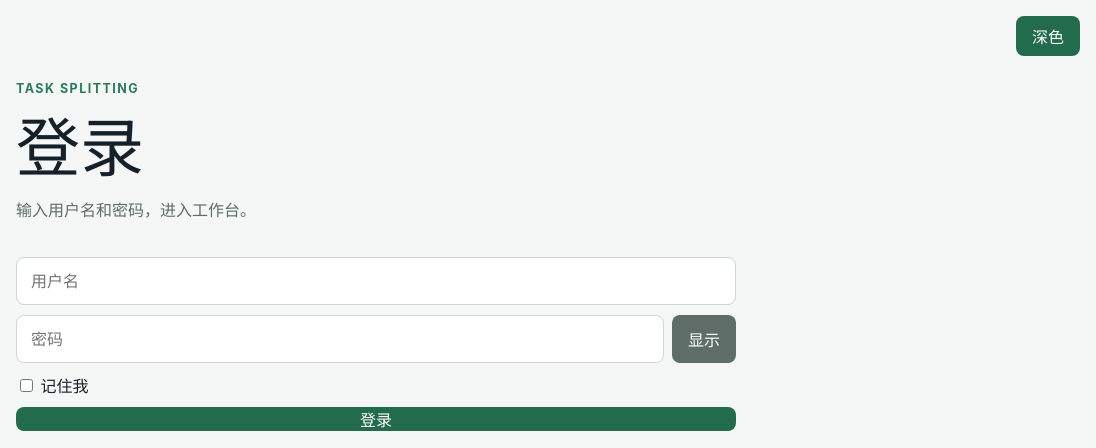
Test case: LoginForm password toggle (T-UI-03) › switches back to type="password" on a second click
Step 1. Click the button "显示" → (704, 339), box x1=672 y1=315 x2=736 y2=363
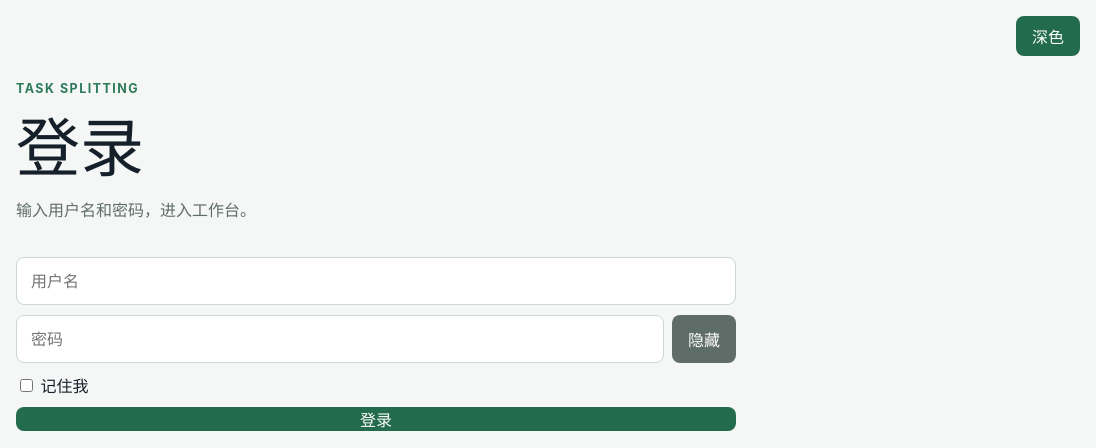
Step 2. Click the button "隐藏" → (704, 339), box x1=672 y1=315 x2=736 y2=363
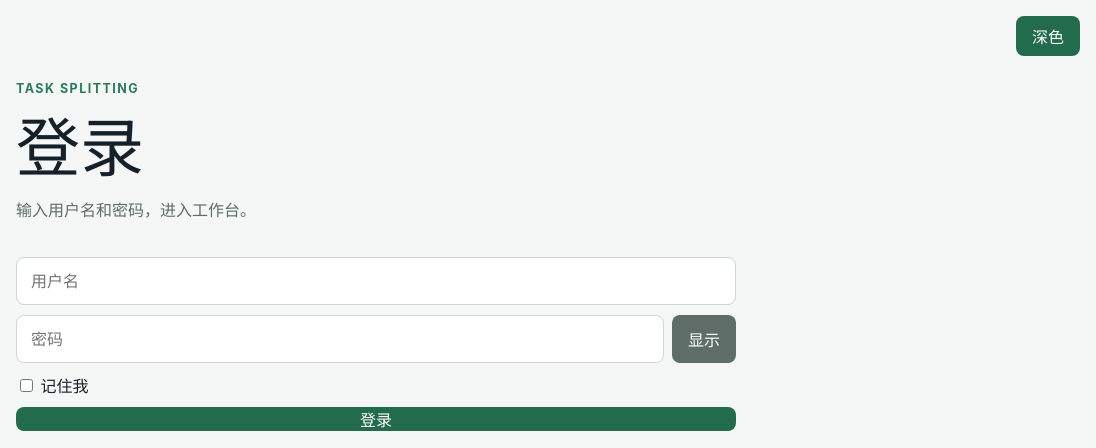
Expected: the button "显示" is shown, x1=672 y1=315 x2=736 y2=363
